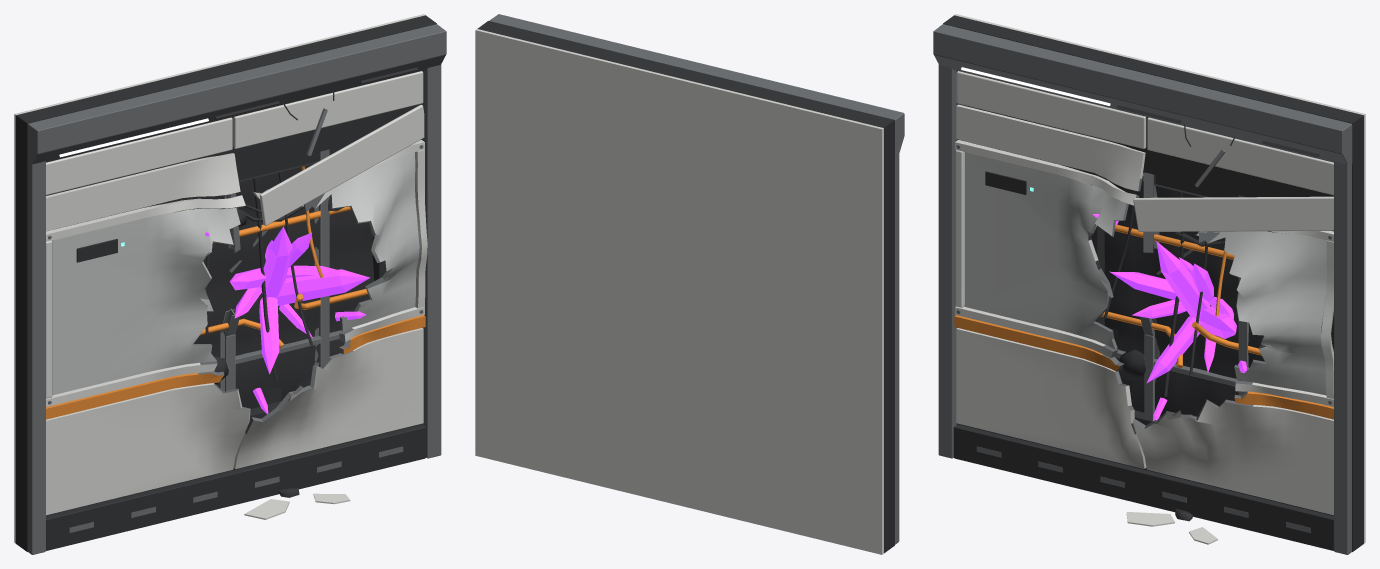
The model's file is kit_wall_damaged.glb.
The picture shows the model from 3 angles, left to right: view 1: azimuth 30°, elevation 25°; view 2: azimuth 150°, elevation 25°; view 3: azimuth 330°, elevation 25°; orthographic projection.
Visible parts, largest first — view 1: kit_wall_damaged; view 2: kit_wall_damaged; view 3: kit_wall_damaged.
Part boxes in pixels (box(x1,y1,x2,y2)): kit_wall_damaged: box(14, 14, 446, 554); kit_wall_damaged: box(475, 14, 904, 554); kit_wall_damaged: box(933, 14, 1365, 554).
Bounding box in the file's own units: 4 × 4 × 0.7049.
